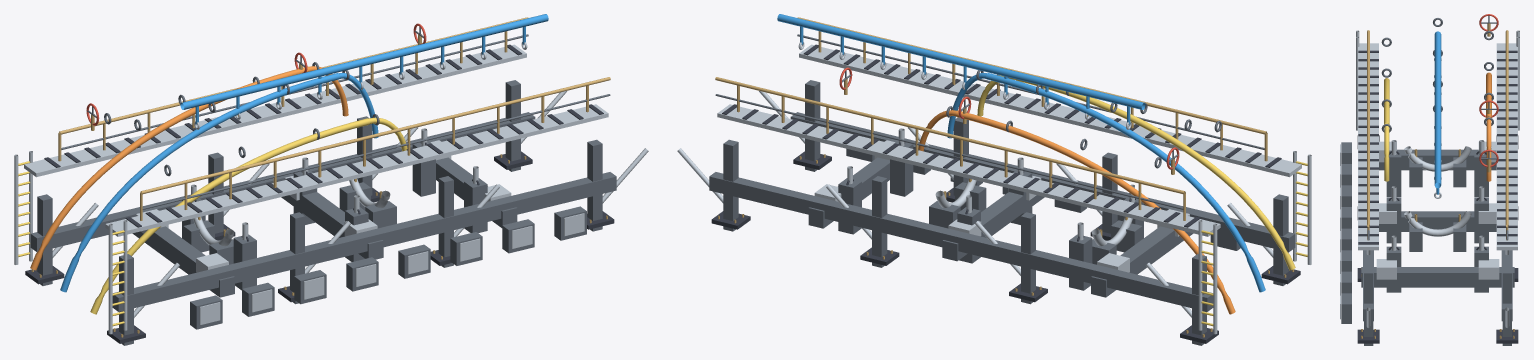
File: rocket-stand.gltf
3 renders of one model, left to right at view 1: azimuth 30°, elevation 25°; view 2: azimuth 150°, elevation 25°; view 3: azimuth 270°, elevation 25°, orthographic. The views are drawn at different scales.
Visible parts, largest first — view 1: I_beam, walkway, frame_column, instrument_cabinet, cross_beam, anti_slip_grid, access_panel, hydraulic_jack, deluge_manifold, top_rail, LOXfeed, middle_rail (+12 smaller); view 2: I_beam, walkway, frame_column, cross_beam, anti_slip_grid, hydraulic_jack, deluge_manifold, top_rail, LOXfeed, footplate, middle_rail, N2feed (+11 smaller); view 3: walkway, cross_beam, anti_slip_grid, hydraulic_jack, instrument_cabinet, gusset_plate, saddle_foot, top_rail, deluge_manifold, curved_saddle, frame_column, I_beam (+12 smaller).
Boxes of the visible parts, bbox=[...] form: I_beam: bbox=[30, 112, 616, 311]; walkway: bbox=[24, 44, 608, 236]; frame_column: bbox=[37, 80, 602, 345]; instrument_cabinet: bbox=[190, 206, 586, 329]; cross_beam: bbox=[132, 157, 517, 297]; anti_slip_grid: bbox=[44, 44, 603, 227]; access_panel: bbox=[199, 213, 584, 324]; hydraulic_jack: bbox=[182, 140, 487, 290]; deluge_manifold: bbox=[180, 14, 548, 109]; top_rail: bbox=[59, 17, 610, 194]; LOXfeed: bbox=[60, 73, 340, 292]; middle_rail: bbox=[61, 34, 610, 209]; I_beam: bbox=[709, 112, 1295, 311]; walkway: bbox=[717, 44, 1301, 236]; frame_column: bbox=[723, 80, 1288, 345]; cross_beam: bbox=[808, 157, 1193, 297]; anti_slip_grid: bbox=[722, 44, 1281, 227]; hydraulic_jack: bbox=[838, 140, 1143, 290]; deluge_manifold: bbox=[777, 14, 1145, 109]; top_rail: bbox=[715, 17, 1266, 194]; LOXfeed: bbox=[985, 73, 1265, 292]; footplate: bbox=[711, 151, 1300, 343]; middle_rail: bbox=[715, 34, 1264, 209]; N2feed: bbox=[1016, 79, 1295, 270]; walkway: bbox=[1358, 43, 1517, 250]; cross_beam: bbox=[1361, 149, 1514, 287]; anti_slip_grid: bbox=[1358, 50, 1517, 244]; hydraulic_jack: bbox=[1386, 151, 1488, 292]; instrument_cabinet: bbox=[1341, 142, 1351, 323]; gusset_plate: bbox=[1376, 141, 1499, 279]; saddle_foot: bbox=[1409, 157, 1466, 251]; top_rail: bbox=[1367, 30, 1508, 226]; deluge_manifold: bbox=[1434, 31, 1441, 188]; curved_saddle: bbox=[1404, 146, 1471, 236]; frame_column: bbox=[1364, 269, 1511, 345]; I_beam: bbox=[1363, 250, 1512, 321].
Bounding box in the file's own units: 73.55 × 23.96 × 24.65.
